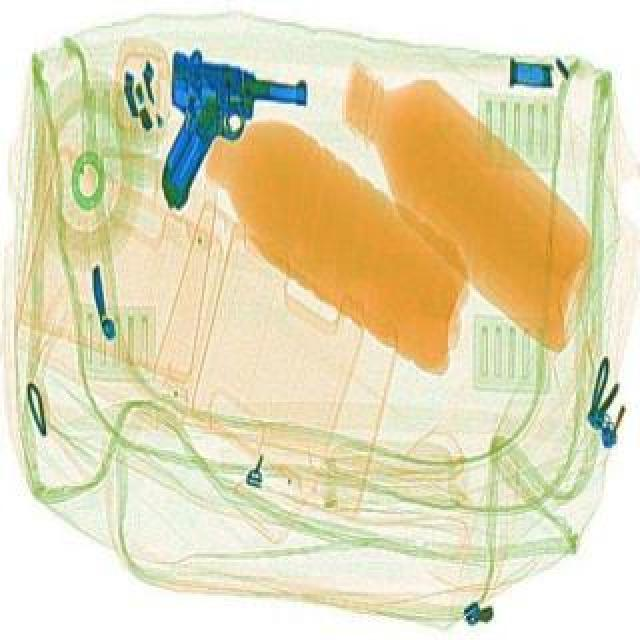gun: (136, 46, 316, 230)
